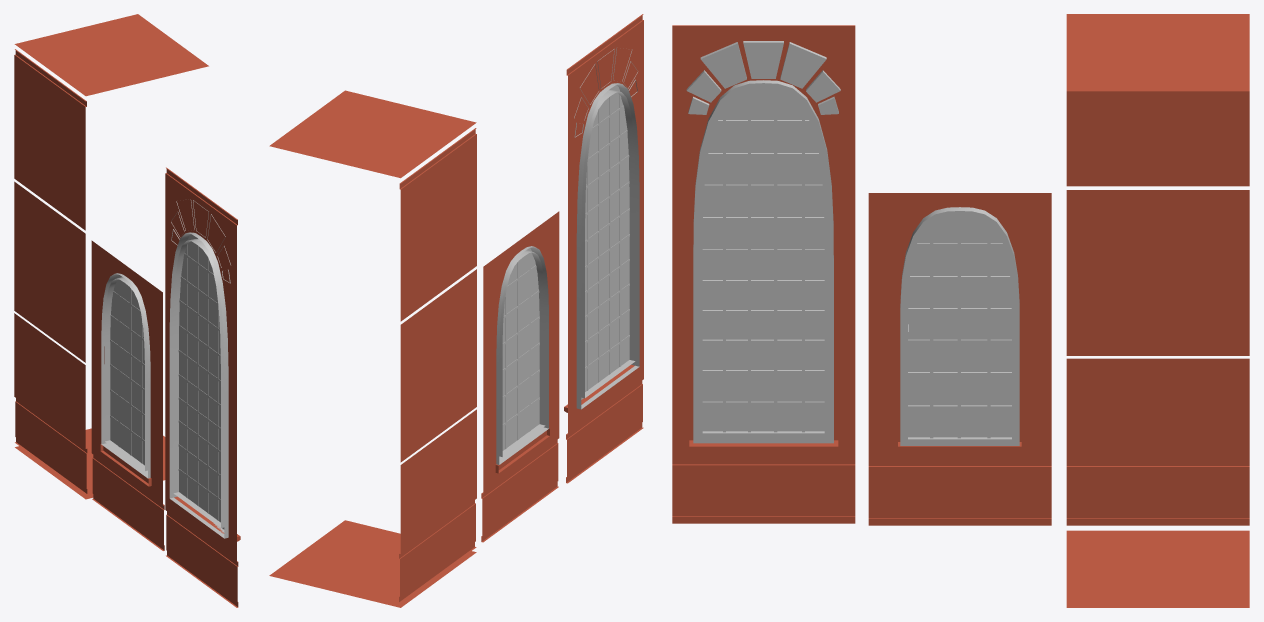
The model's file is walls_fix.fbx.
3 views of the same model, side by side, from view 1: azimuth 30°, elevation 25°; view 2: azimuth 150°, elevation 25°; view 3: azimuth 270°, elevation 25° (orthographic). The views are drawn at different scales.
Parts seen in each view (by area): view 1: Plane.226, Object002, Object004, Object003, Object001, Object006, Object008, Object009, Object011, Object007, Object010, Object005; view 2: Plane.226, Object002, Object003, Object004, Object001, Object006, Object005, Object008, Object009, Object011, Object007, Object010; view 3: Plane.226, Object004, Object003, Object001, Object008, Object002, Object011, Object007, Object005, Object006, Object009, Object010.
Boxes of the visible parts, x1=… form: Plane.226: x1=169, y1=199, x2=240, y2=541; Object002: x1=14, y1=49, x2=86, y2=230; Object004: x1=14, y1=313, x2=87, y2=494; Object003: x1=14, y1=181, x2=85, y2=362; Object001: x1=100, y1=273, x2=151, y2=486; Object006: x1=14, y1=14, x2=208, y2=96; Object008: x1=91, y1=370, x2=164, y2=550; Object009: x1=165, y1=167, x2=237, y2=348; Object011: x1=165, y1=426, x2=238, y2=607; Object007: x1=91, y1=240, x2=162, y2=421; Object010: x1=165, y1=297, x2=236, y2=478; Object005: x1=15, y1=428, x2=165, y2=499; Plane.226: x1=564, y1=48, x2=639, y2=412; Object002: x1=399, y1=128, x2=476, y2=321; Object003: x1=400, y1=269, x2=476, y2=462; Object004: x1=399, y1=409, x2=476, y2=602; Object001: x1=495, y1=246, x2=549, y2=473; Object006: x1=269, y1=90, x2=476, y2=178; Object005: x1=269, y1=520, x2=476, y2=607; Object008: x1=481, y1=349, x2=559, y2=542; Object009: x1=566, y1=14, x2=643, y2=207; Object011: x1=566, y1=290, x2=643, y2=483; Object007: x1=483, y1=211, x2=559, y2=404; Object010: x1=568, y1=152, x2=643, y2=345; Plane.226: x1=686, y1=41, x2=840, y2=451; Object004: x1=1066, y1=358, x2=1249, y2=525; Object003: x1=1066, y1=190, x2=1249, y2=355; Object001: x1=898, y1=207, x2=1021, y2=451; Object008: x1=868, y1=358, x2=1051, y2=525; Object002: x1=1066, y1=91, x2=1249, y2=186; Object011: x1=672, y1=357, x2=855, y2=523; Object007: x1=868, y1=193, x2=1051, y2=358; Object005: x1=1066, y1=530, x2=1249, y2=607; Object006: x1=1066, y1=14, x2=1249, y2=91; Object009: x1=672, y1=25, x2=855, y2=191; Object010: x1=672, y1=191, x2=855, y2=356.
Bounding box in the file's own units: 125 × 368 × 373.
